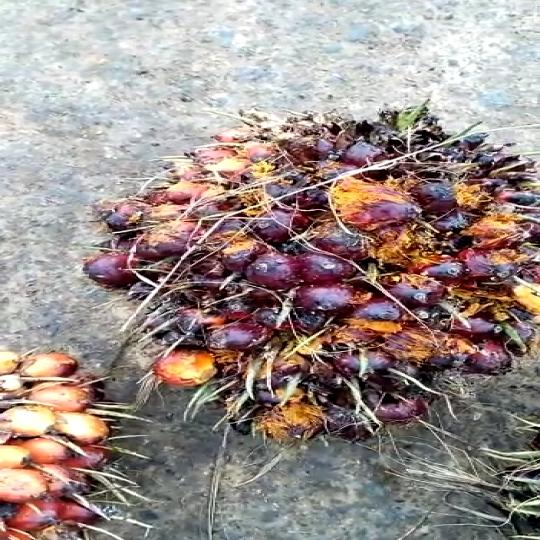masak: (93, 102, 540, 449)
